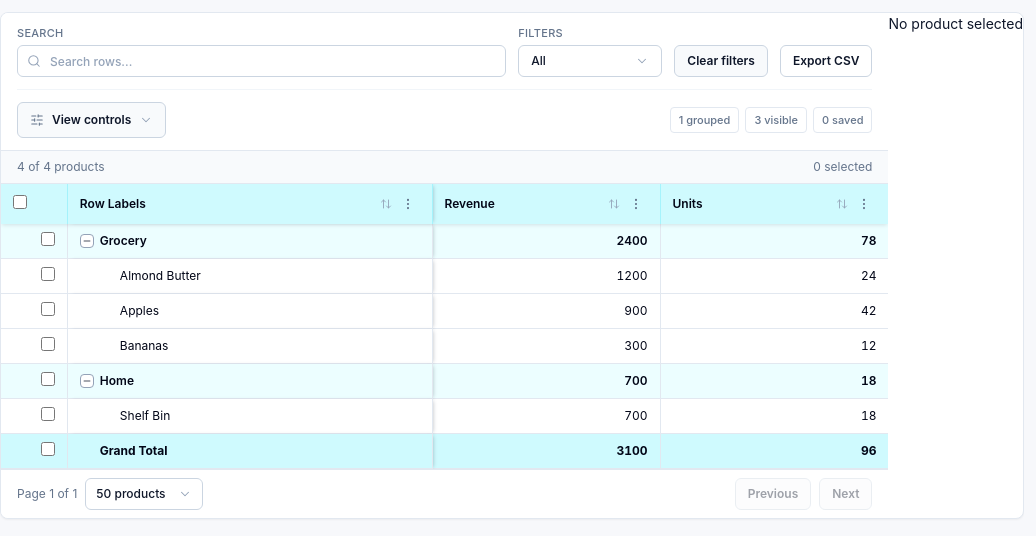
DataGrid pivot layout mode › allows lowest-level pivot leaf rows to open the existing detail panel
Expected: the text with test id "detail-panel" reads "No product selected", [888, 15, 1023, 32]
Expected: the button named "Toggle Grocery group" is shown, [80, 234, 94, 248]
Step 1. Click the button "Almond Butter" → (160, 276), box [120, 268, 201, 284]
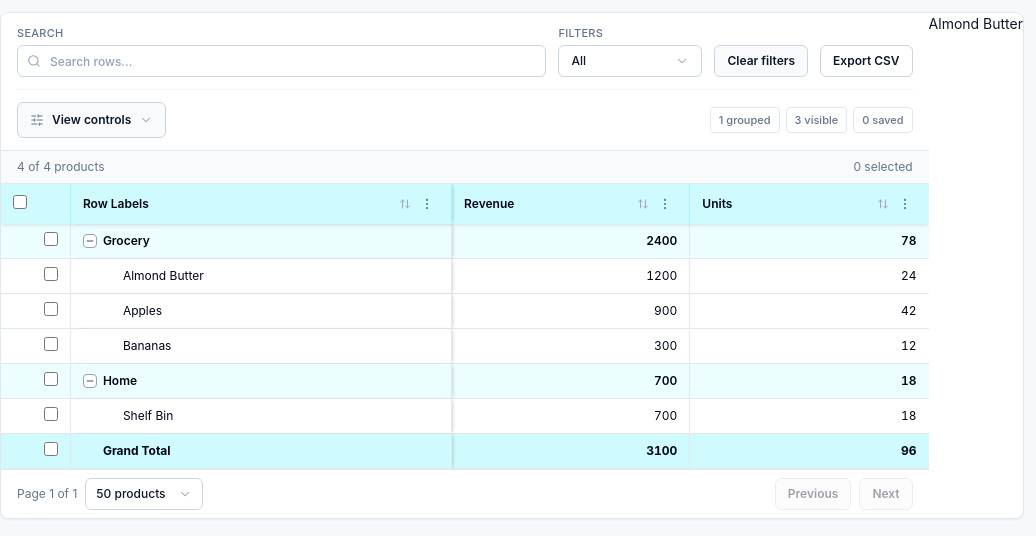
Expected: the text with test id "detail-panel" reads "Almond Butter", [929, 15, 1023, 32]
